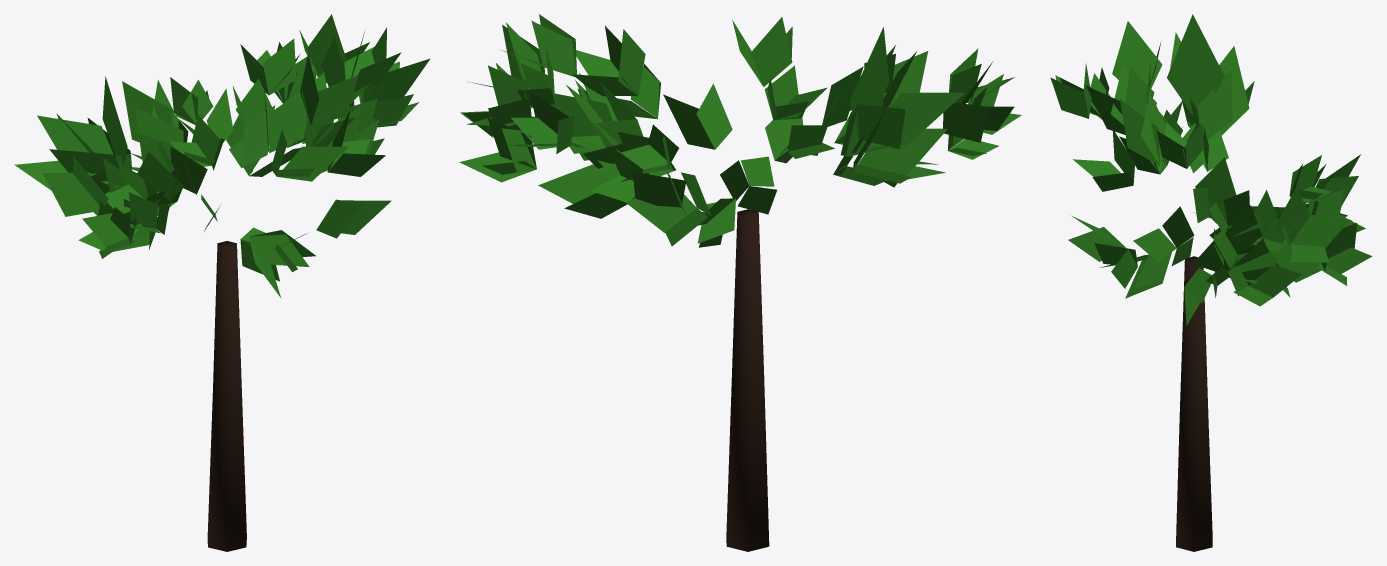
Rendered from Tree_08_C_LOD2.obj.
The picture shows the model from 3 angles, left to right: view 1: azimuth 30°, elevation 25°; view 2: azimuth 150°, elevation 25°; view 3: azimuth 270°, elevation 25°; orthographic projection. The views are drawn at different scales.
Parts seen in each view (by area): view 1: Leaves, Trunk; view 2: Leaves, Trunk; view 3: Leaves, Trunk.
Part boxes in pixels (<box>): Leaves: <box>14,14,429,298</box>; Trunk: <box>207,241,246,551</box>; Leaves: <box>459,14,1021,247</box>; Trunk: <box>726,209,769,551</box>; Leaves: <box>1050,14,1372,325</box>; Trunk: <box>1176,256,1212,551</box>.
Bounding box in the file's own units: 7.98 × 8.84 × 5.47.
